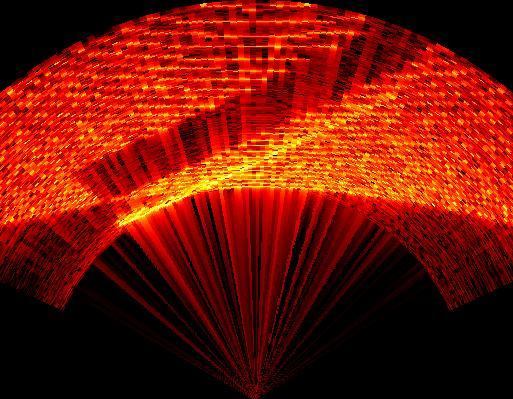pipe: (78, 22, 432, 203)
